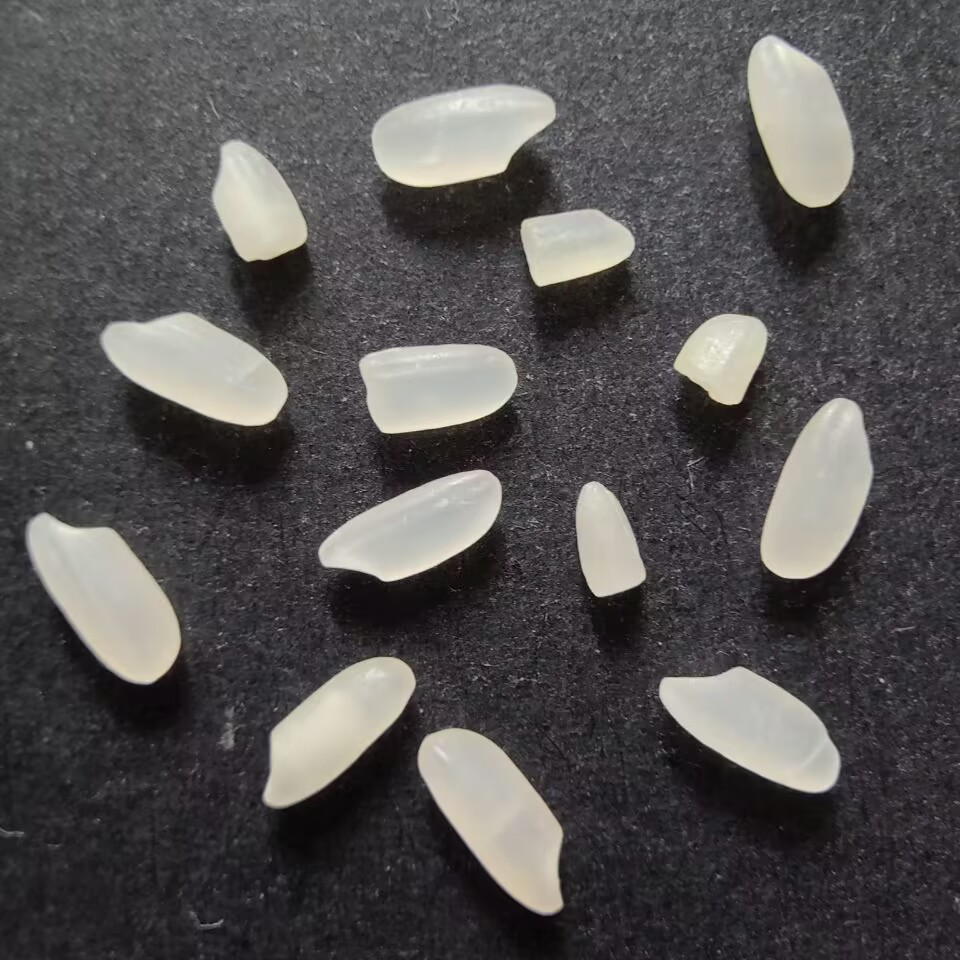broken: (353, 335, 520, 438), (206, 136, 315, 264), (667, 307, 776, 407), (513, 207, 640, 290), (572, 477, 652, 605)
rice: (414, 724, 575, 927), (21, 508, 185, 689), (257, 650, 421, 814), (651, 661, 846, 798), (310, 462, 508, 584), (752, 395, 880, 581), (94, 310, 290, 427), (367, 81, 562, 190), (743, 31, 856, 211)
